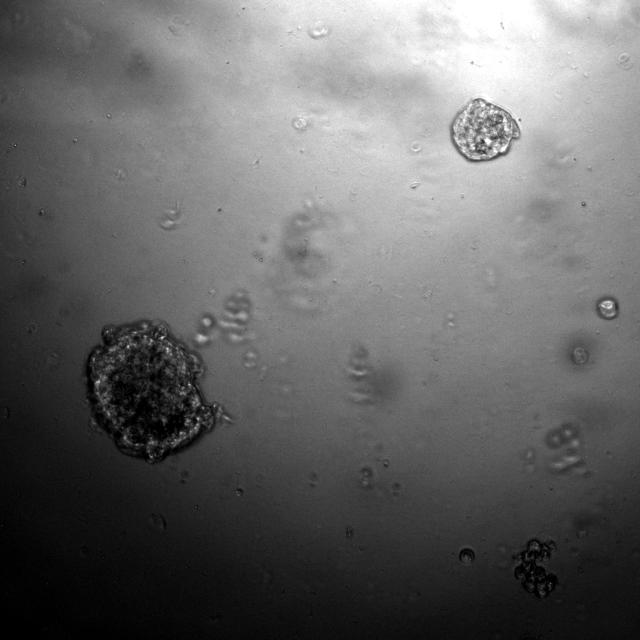organoid: (88, 321, 231, 463), (452, 96, 520, 160), (194, 290, 251, 347), (514, 539, 556, 597), (545, 421, 588, 474), (596, 297, 619, 319), (359, 466, 374, 488), (149, 513, 166, 532), (571, 346, 588, 364), (460, 548, 474, 564), (345, 525, 354, 539), (236, 487, 243, 496)
